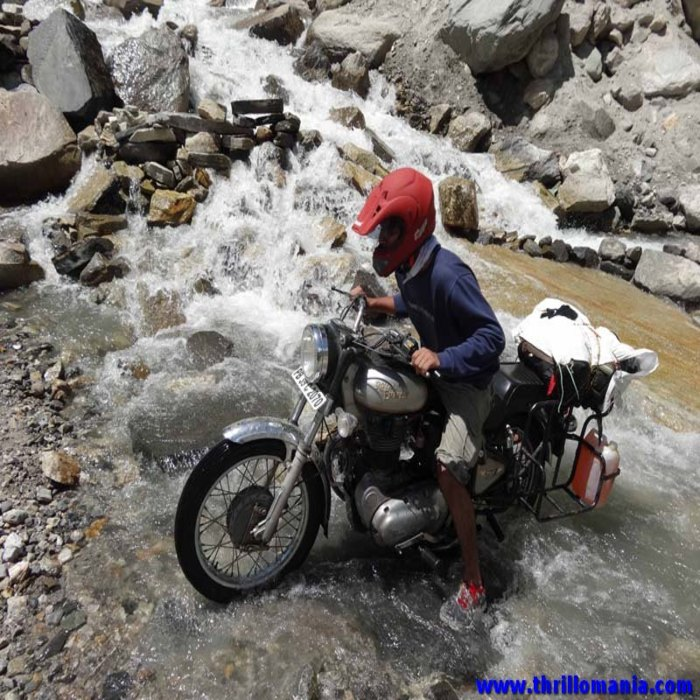h: (351, 166, 438, 279)
n: (289, 362, 327, 412)
